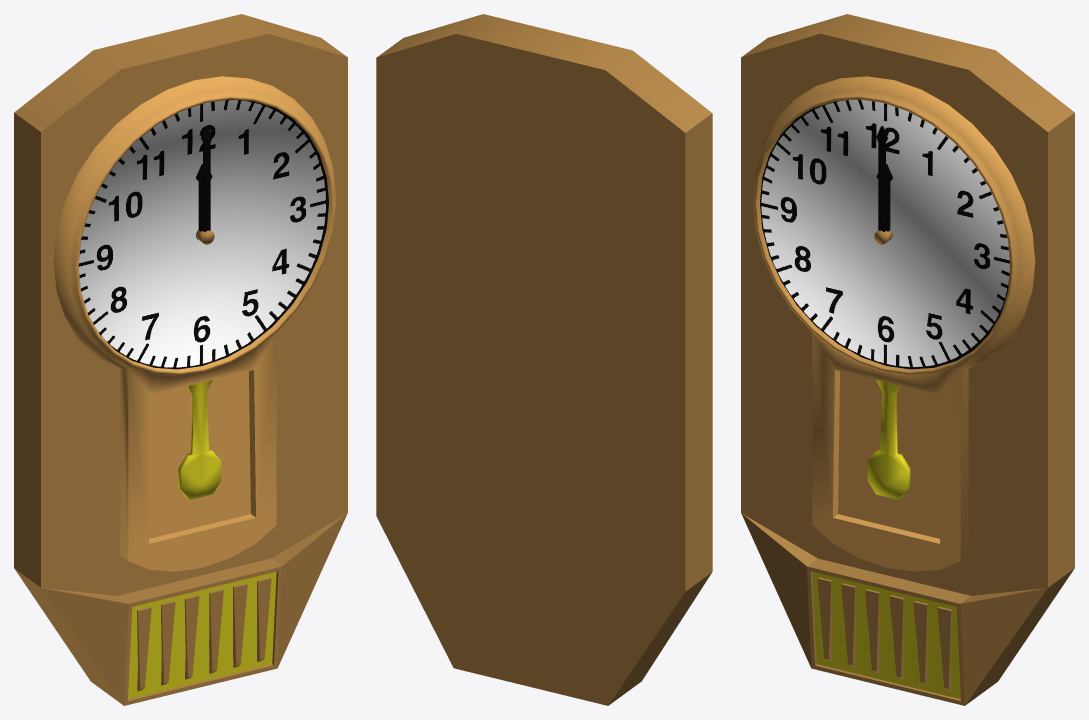
Rendered from clock_closed_witharrows.glb.
3 renders of one model, left to right at view 1: azimuth 30°, elevation 25°; view 2: azimuth 150°, elevation 25°; view 3: azimuth 330°, elevation 25°, orthographic.
Parts seen in each view (by area): view 1: full_clock_noarrows_closed_witharrows; view 2: full_clock_noarrows_closed_witharrows; view 3: full_clock_noarrows_closed_witharrows.
Boxes of the visible parts, x1,y1,x2,y2 form: full_clock_noarrows_closed_witharrows: (14,14,347,705); full_clock_noarrows_closed_witharrows: (376,14,712,705); full_clock_noarrows_closed_witharrows: (741,14,1074,705).
Size of the model in its own units: 0.451 by 0.8858 by 0.1039.
Materials: 7 (1 with a texture image).
